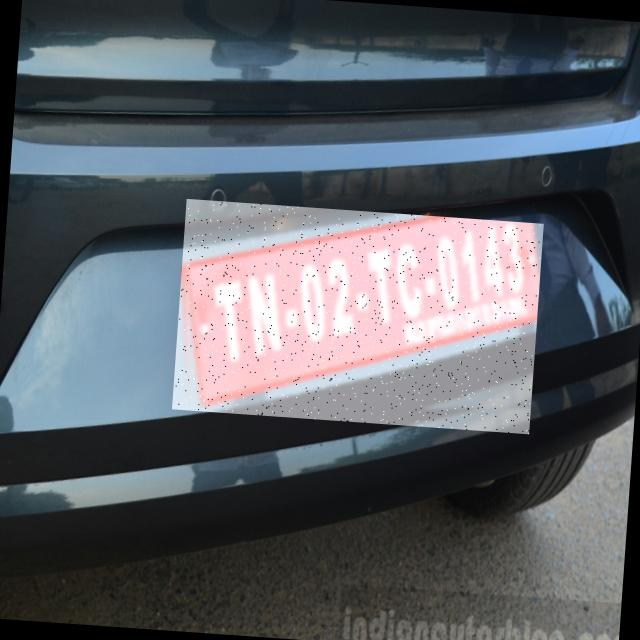Plate: (173, 200, 545, 435)
